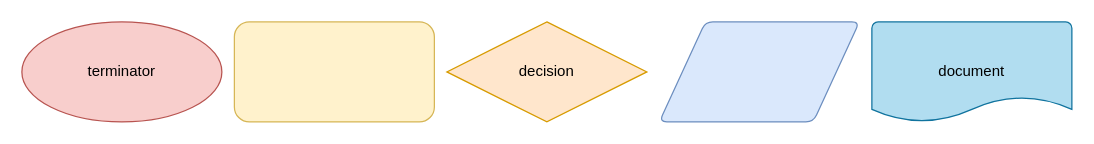
Some shapes in this 1094 by 144 pixel diagram are drawn without their labels. The shapes that lost their labels are listed below. From the top down, each one's centre as x and y in pixels, then its label:
point (333, 71): process
point (758, 71): data
